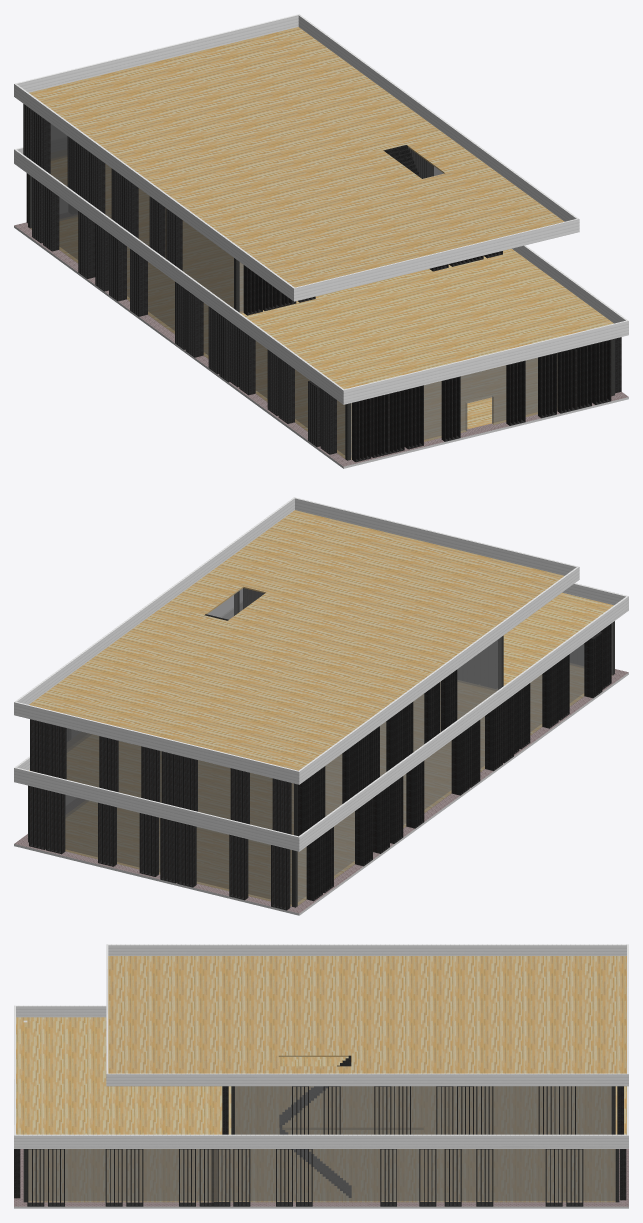
The picture shows the model from 3 angles, top to bottom: view 1: azimuth 30°, elevation 25°; view 2: azimuth 150°, elevation 25°; view 3: azimuth 270°, elevation 25°; orthographic projection. The views are drawn at different scales.
Visible parts, largest first — view 1: G-No_Name_214, G-No_Name_241, G-No_Name_226, G-No_Name_240, G-No_Name_253, G-No_Name_231, G-No_Name_239, G-No_Name_254, G-No_Name_251, G-No_Name_235, G-No_Name_223, G-No_Name_222 (+20 smaller); view 2: G-No_Name_214, G-No_Name_269, G-No_Name_276, G-No_Name_291, G-No_Name_288, G-No_Name_292, G-No_Name_294, G-No_Name_219, G-No_Name_256, G-No_Name_262, G-No_Name_266, G-No_Name_223 (+27 smaller); view 3: G-No_Name_214, G-No_Name_279, G-No_Name_257, G-No_Name_258, G-No_Name_277, G-No_Name_217, G-No_Name_285, G-No_Name_260, G-No_Name_283, G-No_Name_290, G-No_Name_296, G-No_Name_263 (+13 smaller).
Boxes of the visible parts, x1,y1,x2,y2 form: G-No_Name_214: [14, 14, 628, 468]; G-No_Name_241: [557, 348, 576, 413]; G-No_Name_226: [506, 360, 525, 425]; G-No_Name_240: [592, 339, 611, 404]; G-No_Name_253: [441, 376, 460, 441]; G-No_Name_231: [352, 398, 371, 462]; G-No_Name_239: [404, 385, 423, 449]; G-No_Name_254: [538, 353, 556, 418]; G-No_Name_251: [185, 289, 203, 357]; G-No_Name_235: [371, 394, 388, 457]; G-No_Name_223: [78, 211, 95, 278]; G-No_Name_222: [109, 233, 126, 301]; G-No_Name_214: [14, 497, 628, 915]; G-No_Name_269: [177, 822, 196, 887]; G-No_Name_276: [229, 834, 248, 900]; G-No_Name_291: [271, 845, 290, 910]; G-No_Name_288: [46, 790, 65, 854]; G-No_Name_292: [139, 813, 158, 876]; G-No_Name_294: [98, 802, 116, 866]; G-No_Name_219: [451, 727, 469, 795]; G-No_Name_256: [406, 760, 424, 828]; G-No_Name_262: [584, 632, 602, 698]; G-No_Name_266: [160, 818, 177, 883]; G-No_Name_223: [355, 798, 372, 866]; G-No_Name_214: [14, 944, 628, 1208]; G-No_Name_279: [280, 1128, 351, 1197]; G-No_Name_257: [126, 1149, 143, 1206]; G-No_Name_258: [566, 1149, 583, 1206]; G-No_Name_277: [476, 1149, 493, 1206]; G-No_Name_217: [213, 1149, 230, 1206]; G-No_Name_285: [279, 1055, 351, 1127]; G-No_Name_260: [233, 1149, 250, 1206]; G-No_Name_283: [444, 1149, 461, 1206]; G-No_Name_290: [419, 1149, 436, 1206]; G-No_Name_296: [27, 1149, 44, 1206]; G-No_Name_263: [199, 1149, 216, 1206].
Size of what is drawn, in the model's own units: 32 by 15.42 by 64.
Materials: 11 (9 with a texture image).
